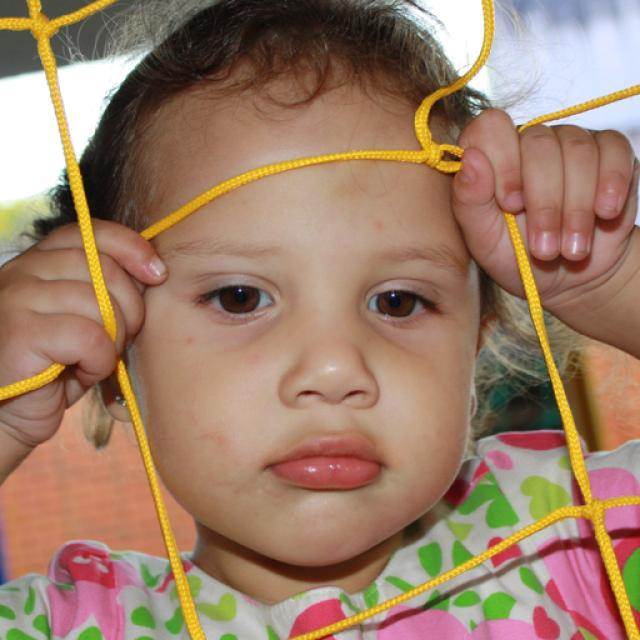neutral: (122, 43, 484, 570)
